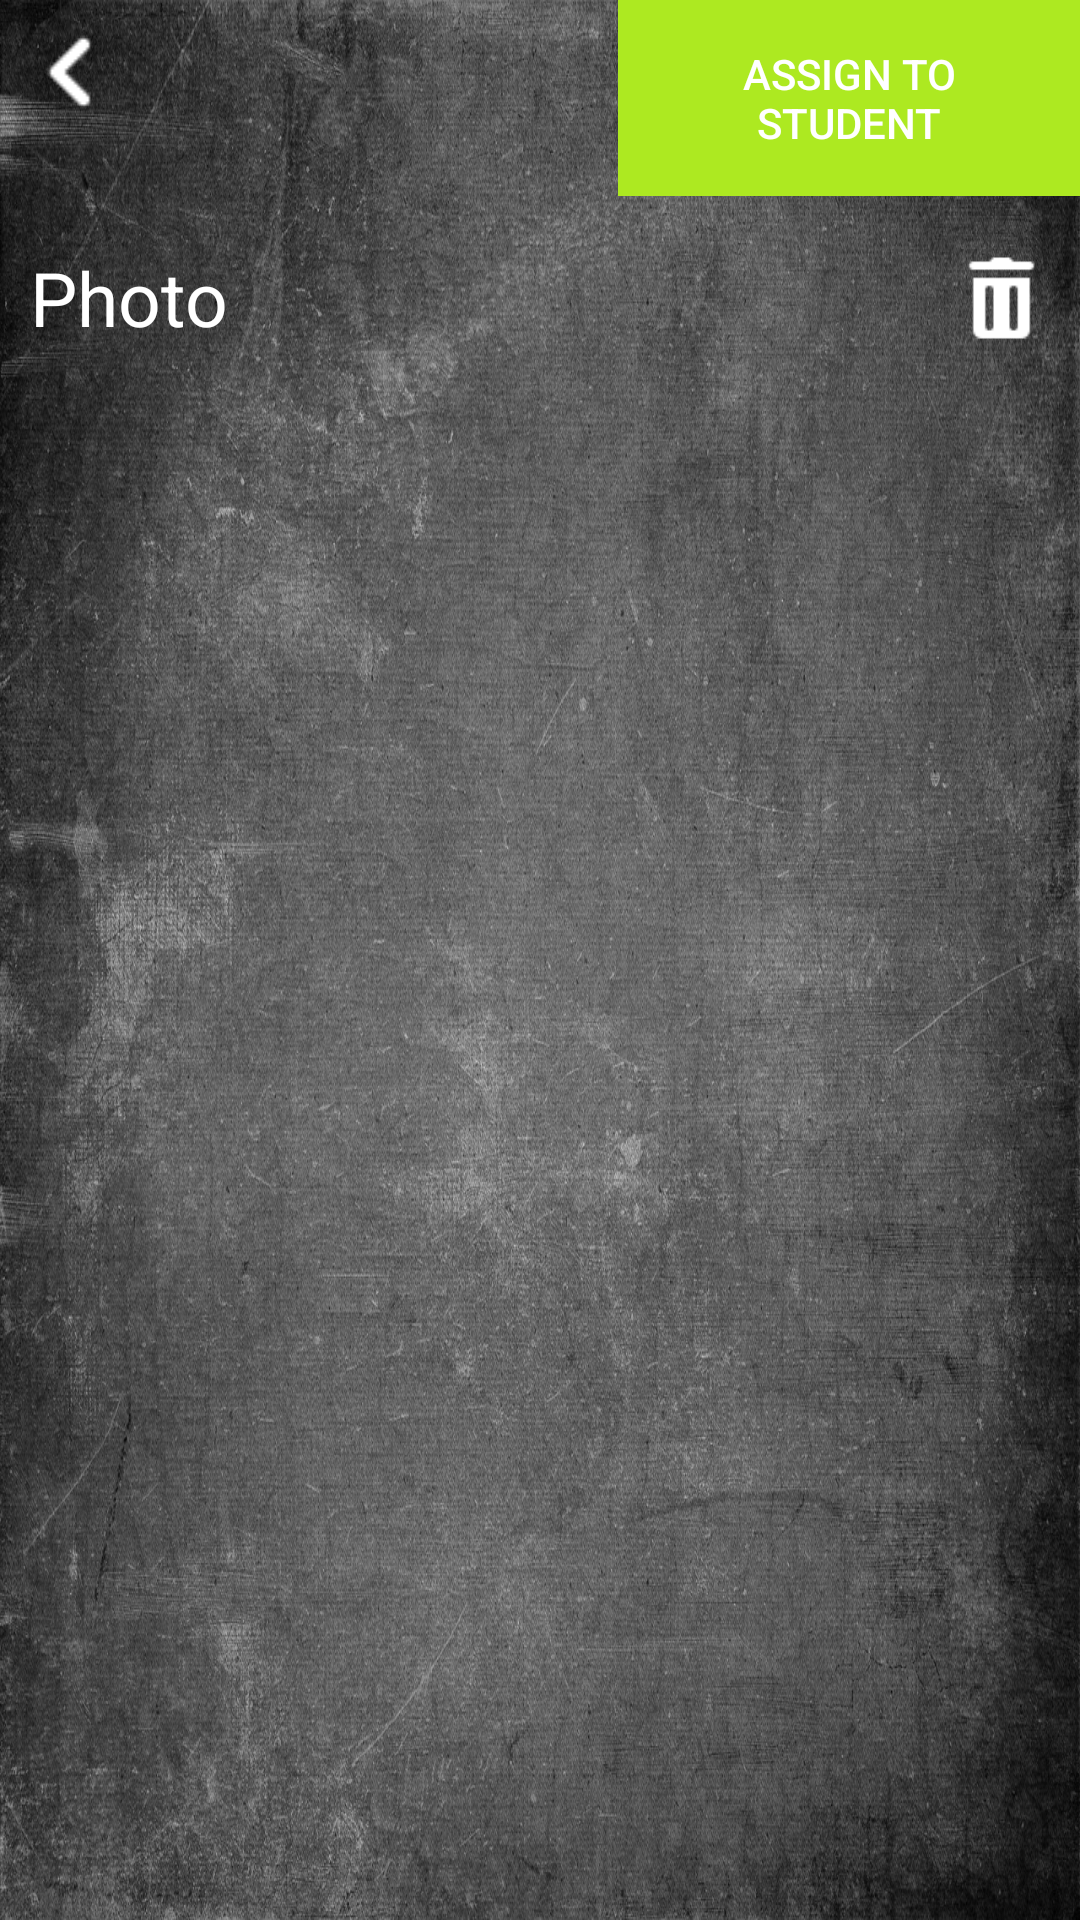

Named icons in this screenshot (1080x1920) and their centers, (x=x, y=y):
back: (x=77, y=72)
trash: (x=1001, y=298)
